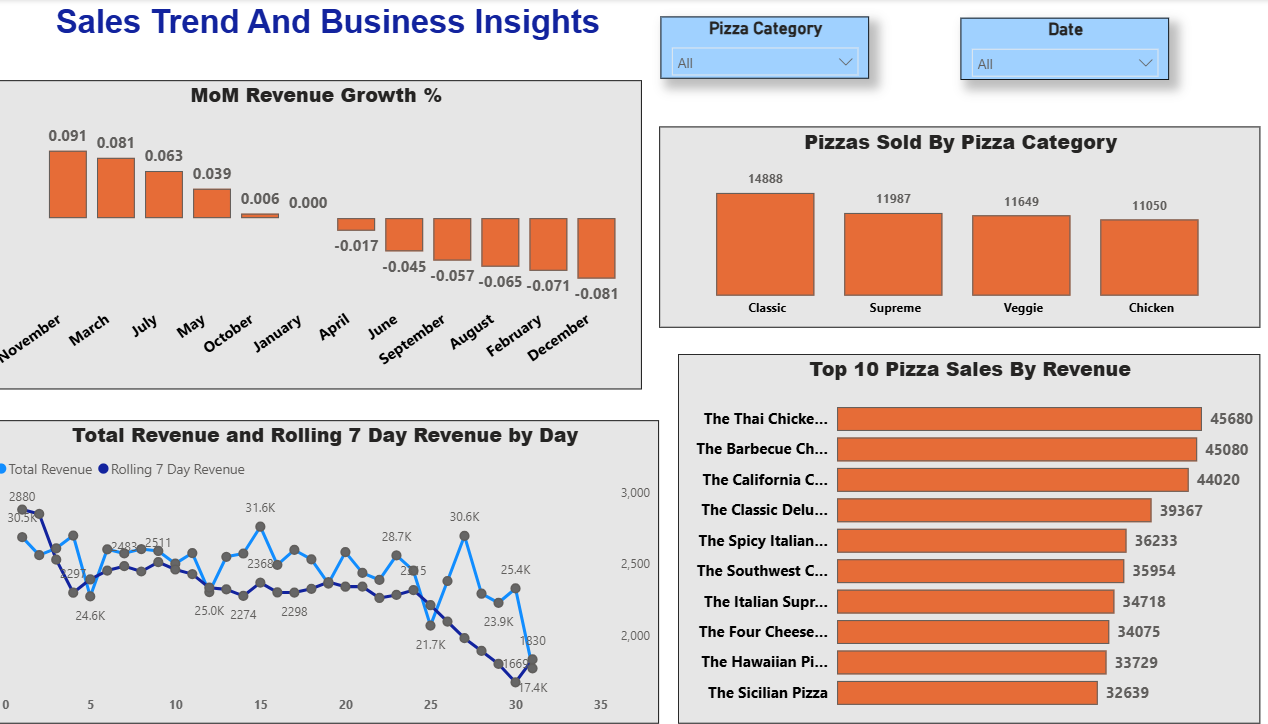

Layout of this report page (visuals, bound fields, positions):
{"tool":"powerbi","page":{"name":"Sales Trend And Business Insights ","canvas":[1280,720],"ordinal":2},"visuals":[{"type":"clusteredColumnChart","title":"MoM Revenue Growth % ","fields":{"Y":["Measure Table.MoM Revenue Growth %"],"Category":["DateTable.Month Name"]},"box":[20.8,79.5,638.3,302],"z":0},{"type":"textbox","box":[36.7,0,639.5,79.5],"z":1000},{"type":"lineChart","fields":{"Category":["DateTable.Date.Variation.Date Hierarchy.Day"],"Y2":["DateTable.Rolling 7 Day Revenue"],"Y":["Measure Table.Total Revenue"]},"box":[20.8,412.1,655.4,297.1],"z":2000},{"type":"clusteredBarChart","title":"Top 10 Pizza Sales By Revenue","fields":{"Category":["Pizza_Sales.pizza_name"],"Y":["Measure Table.Total Revenue"]},"box":[694.6,346.5,569,633.5],"z":2001},{"type":"clusteredColumnChart","title":" Pizzas Sold By Pizza Category","fields":{"Category":["Pizza_Sales.pizza_category"],"Y":["Measure Table.Total Pizzas Sold"]},"box":[676.2,124.7,588.2,196.9],"z":2002},{"type":"slicer","title":"Pizza Category","fields":{"Values":["Pizza_Sales.pizza_category"]},"box":[677.4,17.1,204.2,61.1],"z":2003},{"type":"slicer","title":"Date","fields":{"Values":["DateTable.Date","DateTable.Date.Variation.Date Hierarchy.Month"]},"box":[970.9,18.3,204.2,61.1],"z":2004}]}

Visuals, with their boxes in screenshot pixels (x1, y1, x2, y2), scaled from the page's 1280x720 canvas onto the 1268x724 screenshot:
"MoM Revenue Growth % " clusteredColumnChart: (21,80,653,384)
textbox: (36,0,670,80)
lineChart - DateTable.Date.Variation.Date Hierarchy.Day x DateTable.Rolling 7 Day Revenue: (21,414,670,713)
"Top 10 Pizza Sales By Revenue" clusteredBarChart: (688,348,1252,723)
" Pizzas Sold By Pizza Category" clusteredColumnChart: (670,125,1253,323)
"Pizza Category" slicer: (671,17,873,79)
"Date" slicer: (962,18,1164,80)
